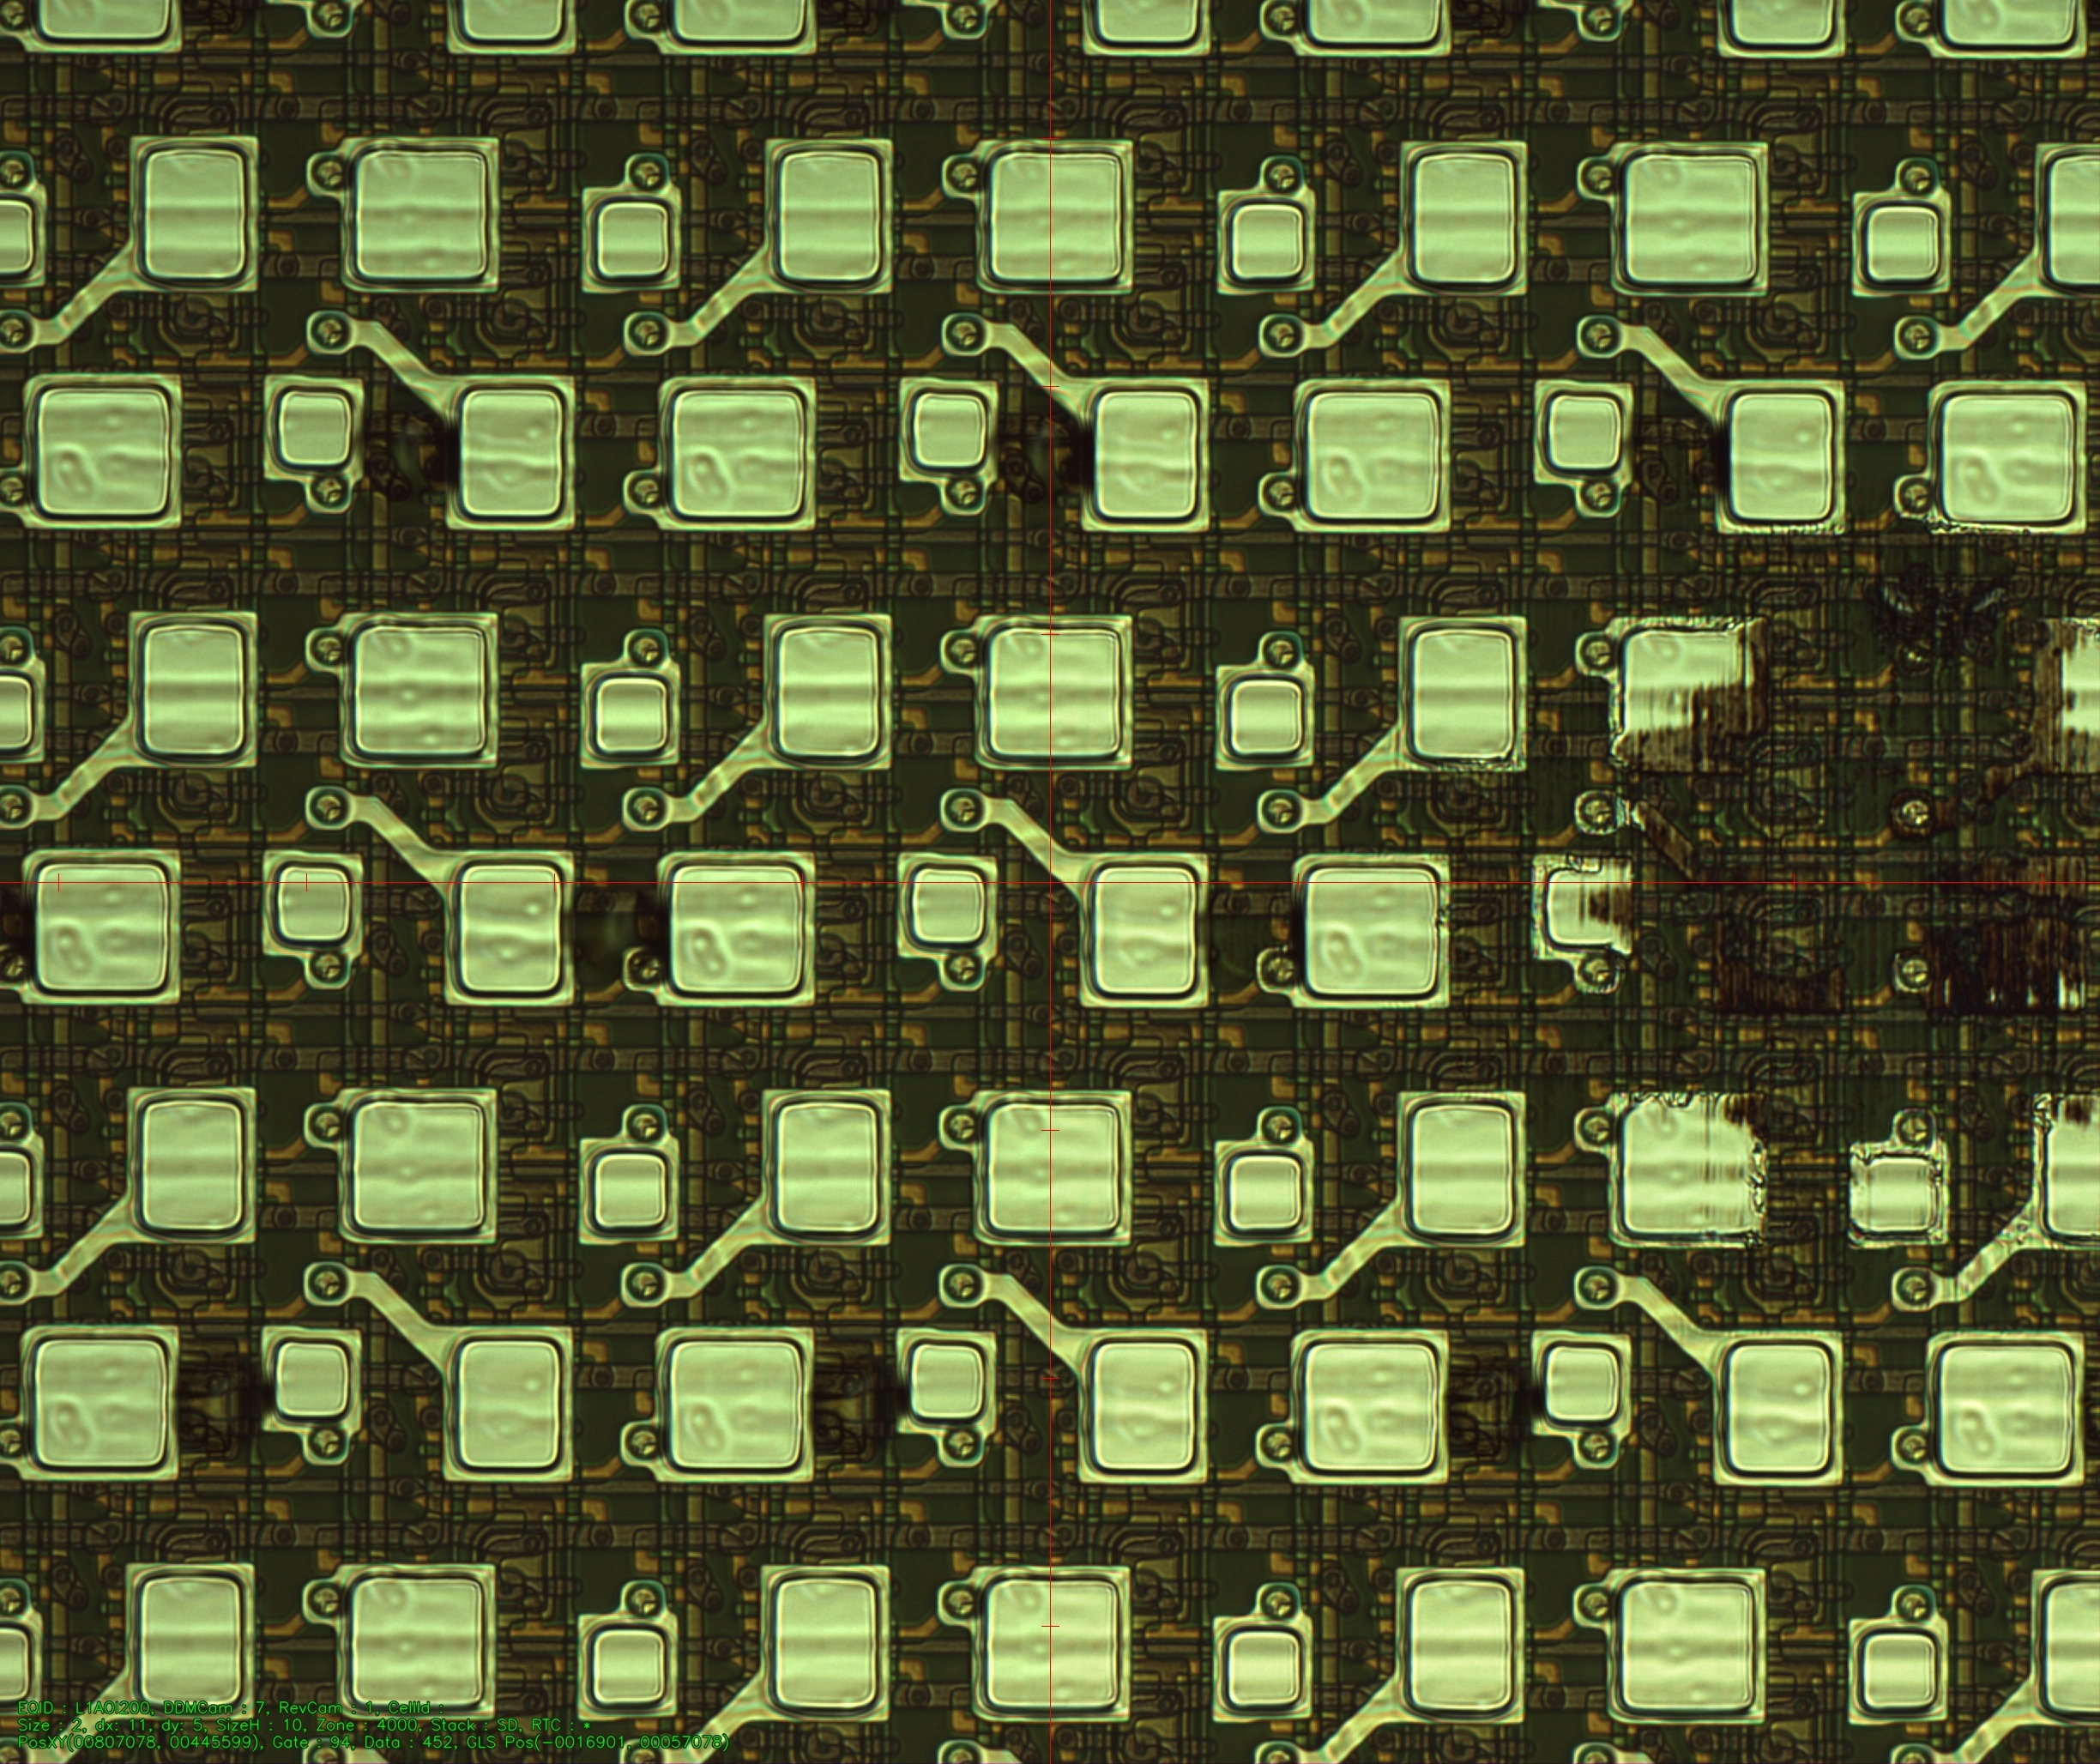RES04: (1559, 511, 2100, 1241)
